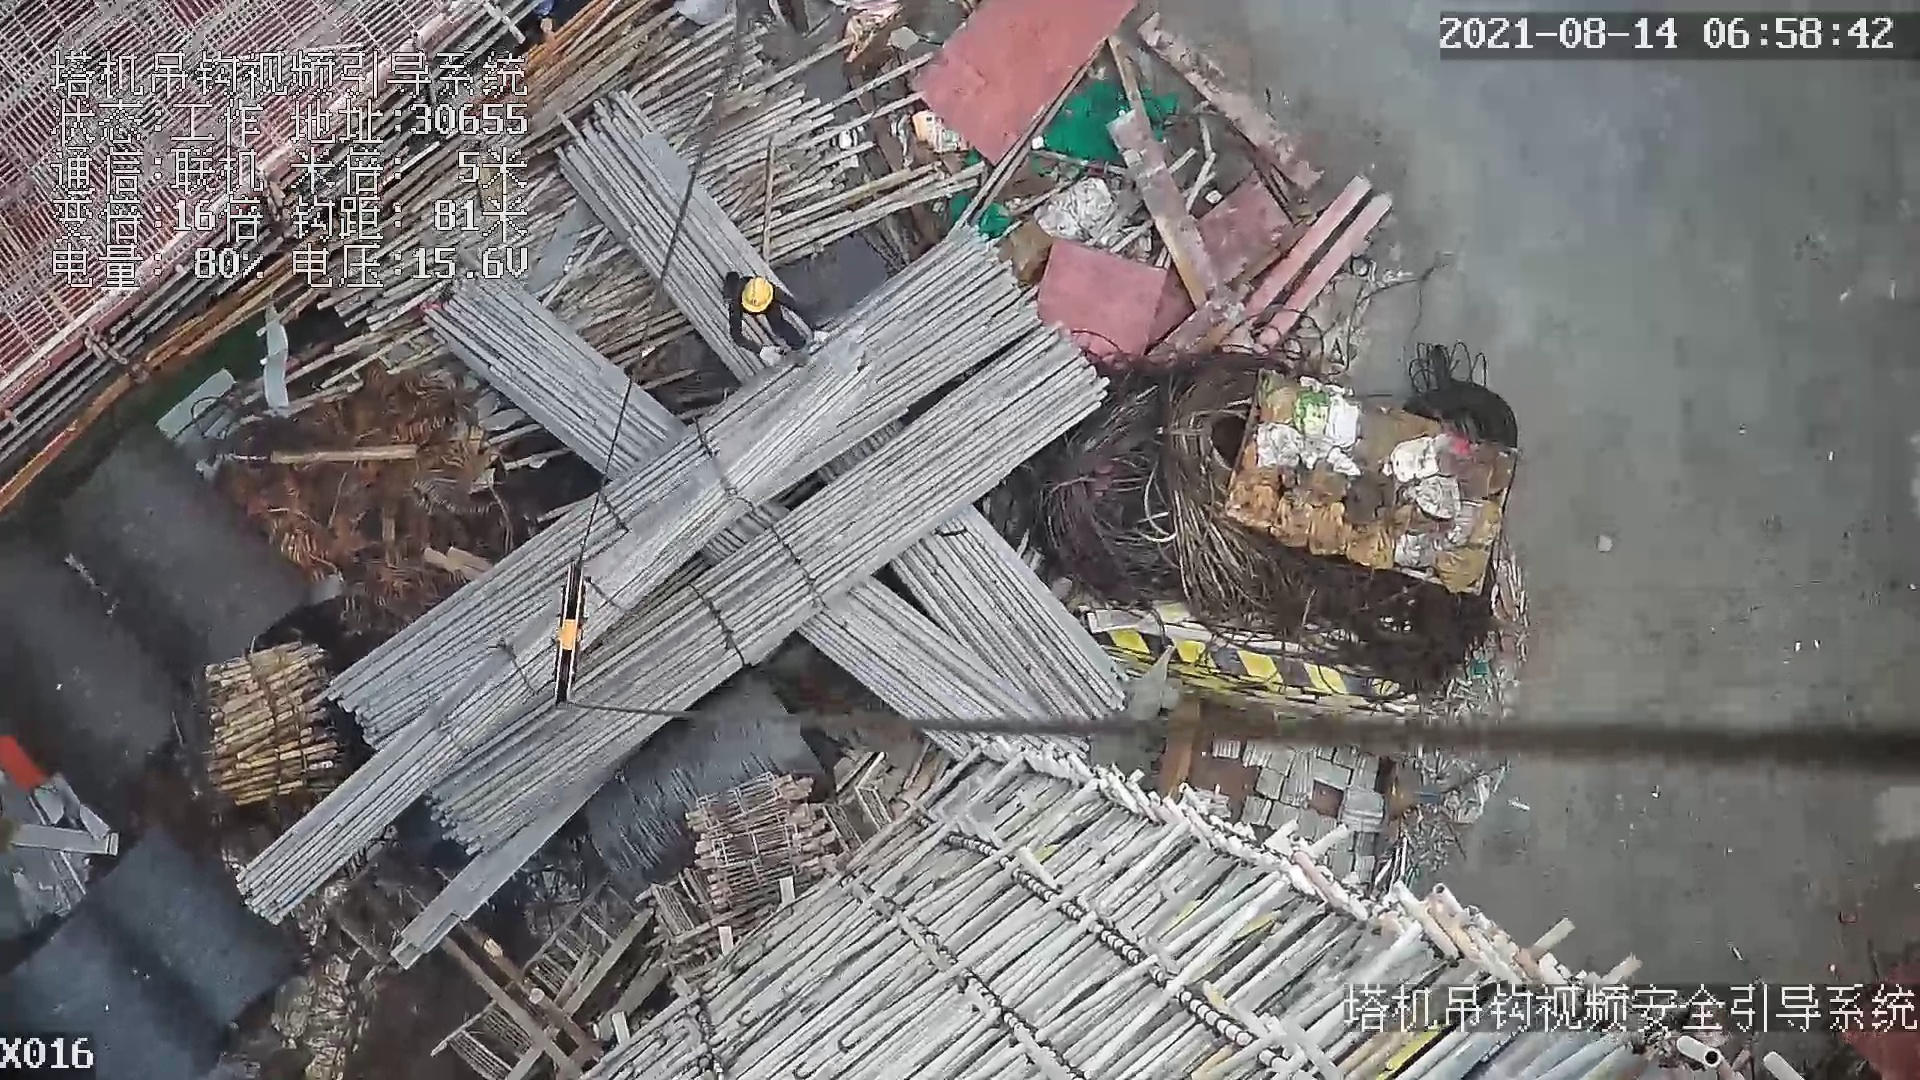helmet: (741, 277, 773, 313)
hook: (550, 555, 583, 699)
person: (704, 258, 829, 377)
rebar: (562, 85, 1123, 734), (238, 360, 871, 922), (338, 246, 1044, 746), (424, 356, 1105, 851), (429, 265, 1031, 757)
scaffold: (208, 637, 343, 804)
